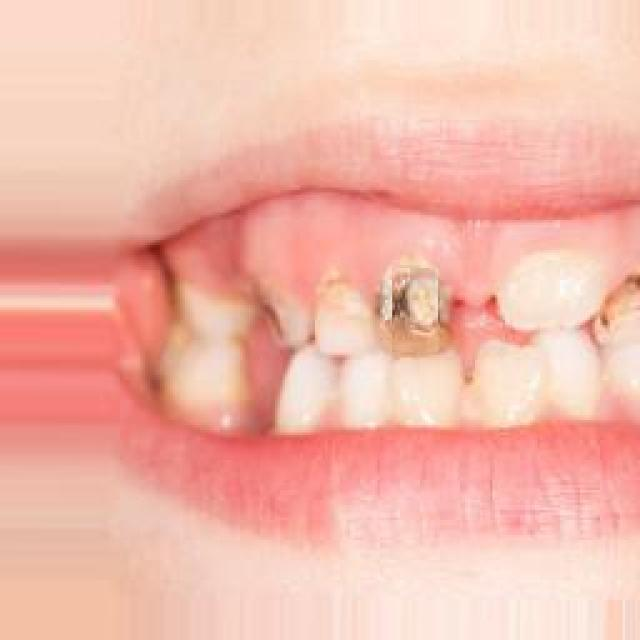caries: (392, 268, 438, 352)
